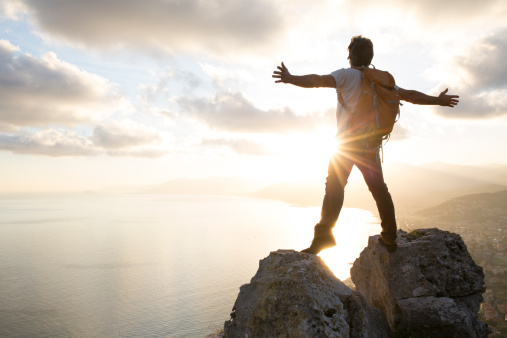em pe: (276, 27, 444, 260)
